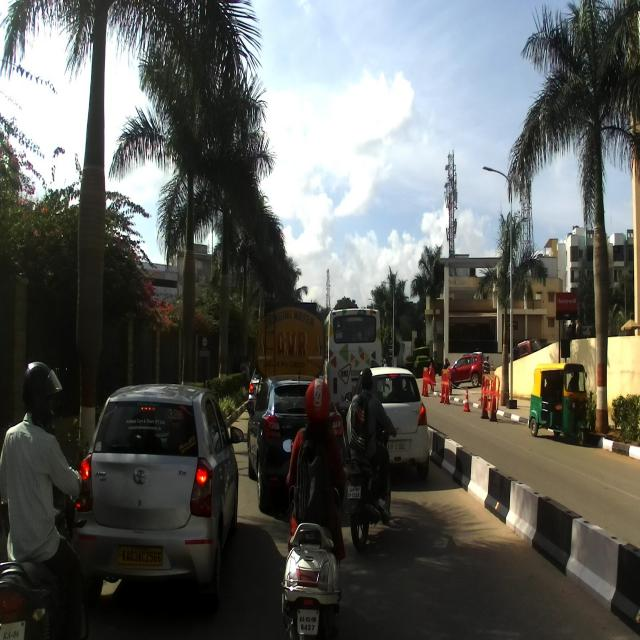Car_Maruti-Suzuki: (243, 371, 344, 516), (344, 362, 430, 490)
Car_Toyota: (72, 375, 243, 617)
autorickshaw: (528, 362, 590, 448)
motorcycle_Honda: (0, 474, 94, 638)
motorcycle_TVS: (340, 392, 394, 550)
scooter: (275, 435, 345, 638)
